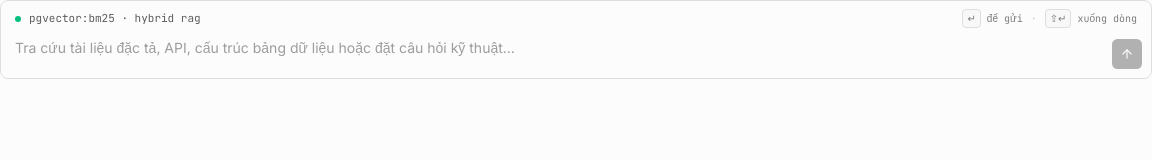
Scenario: ChatInput › sends on Enter and clears the box
Replace the text in the text box labelled "câu hỏi" with "  Luồng thanh toán?  " at (556, 52), box [9,34,1103,70]
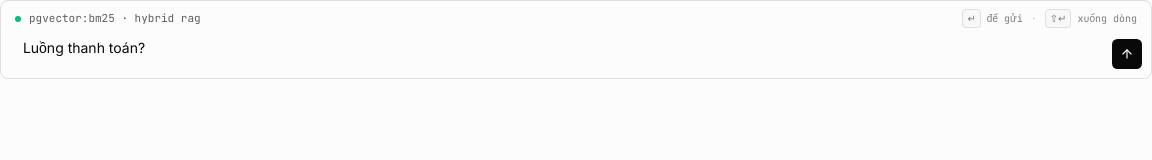
Press Enter in the text box named "Câu hỏi", box [9,34,1103,70]
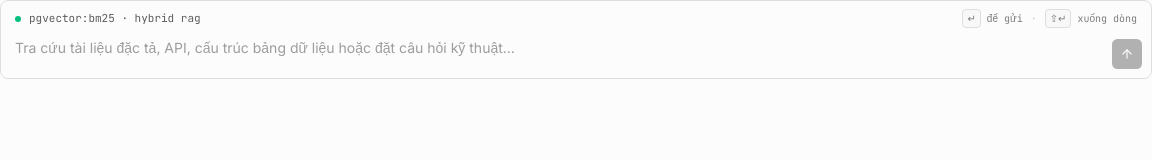
Result: the text box labelled "câu hỏi" is empty at [9,34,1103,70]
